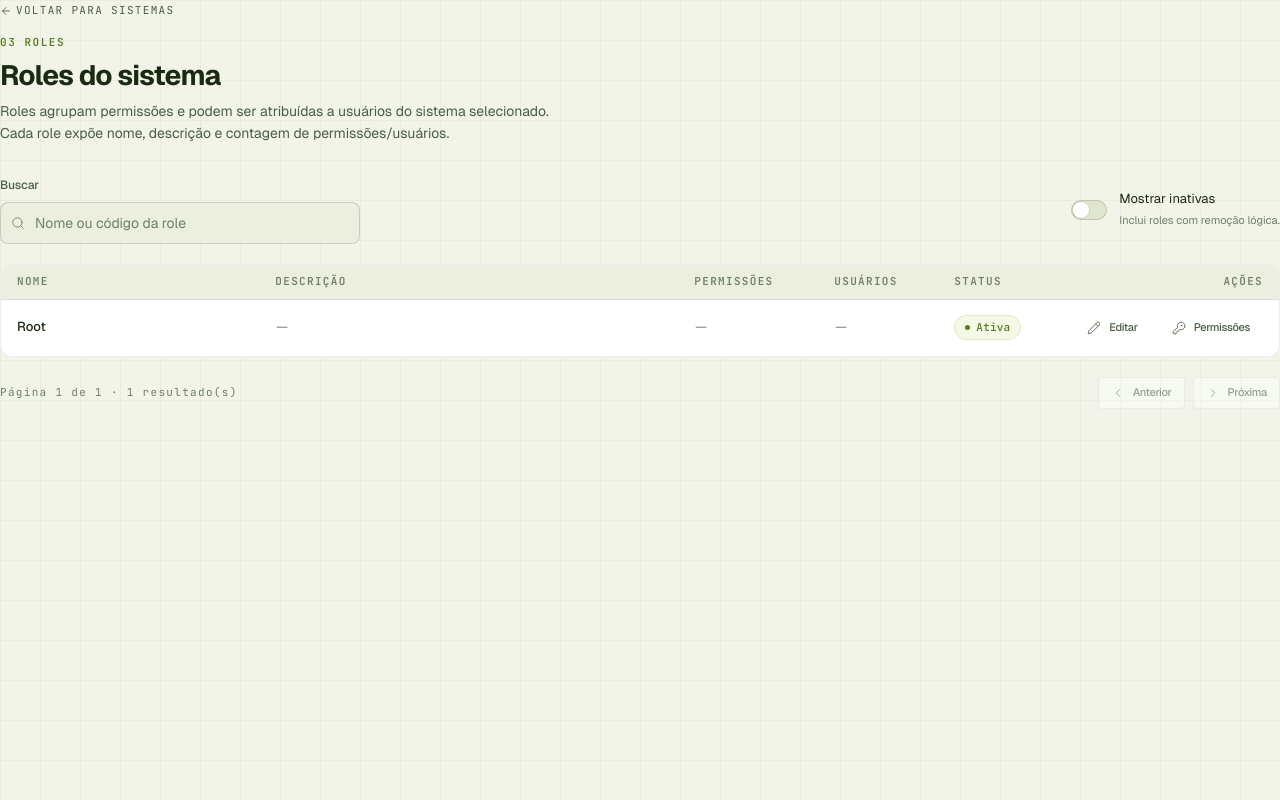
RolesPage — edição (Issue #68) › abertura e pré-preenchimento do modal › fechar via botão Cancelar não dispara PUT
Click the button "Editar" at (1112, 328), box top-left (1074, 312), bottom-right (1151, 344)
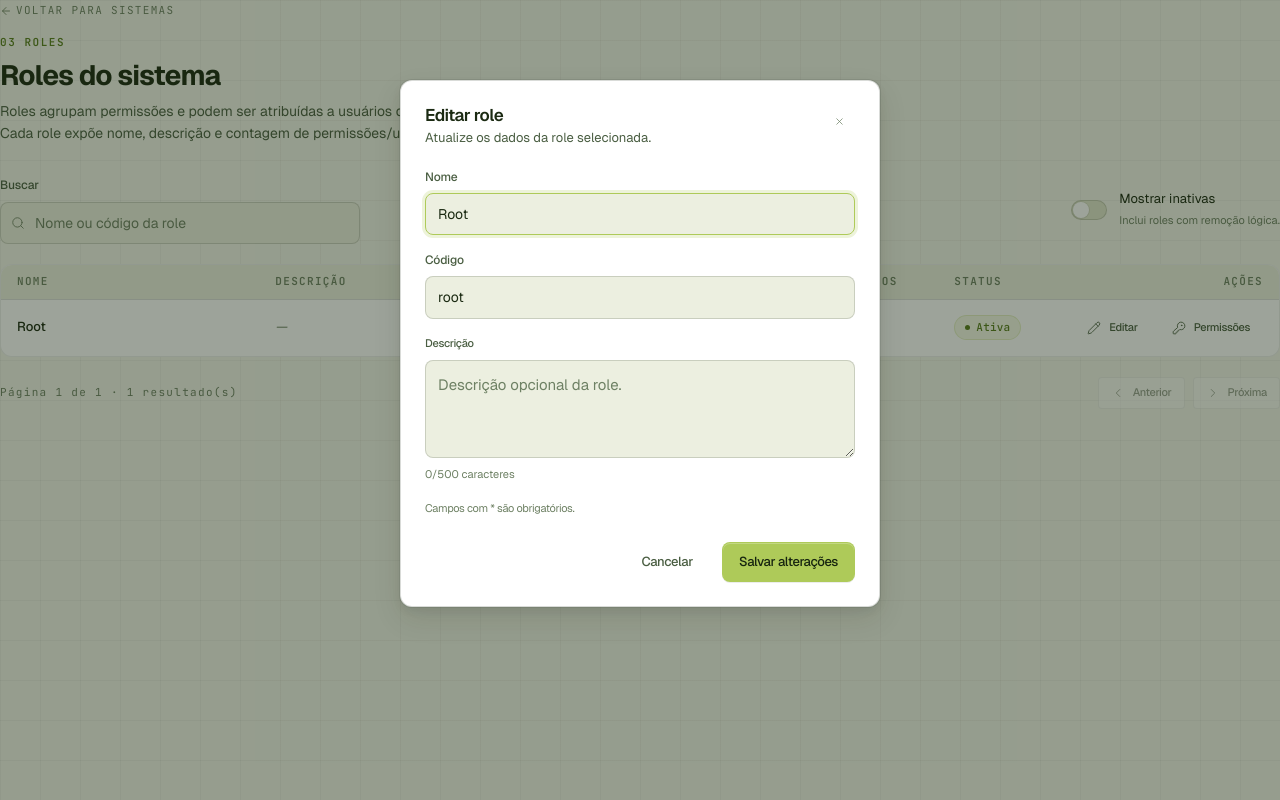
Now the form with test id "edit-role-form" is shown, box top-left (425, 168), bottom-right (855, 582)
Now the dialog is shown, box top-left (400, 80), bottom-right (880, 606)
Click the button with test id "edit-role-cancel" at (667, 562), box top-left (624, 542), bottom-right (710, 582)
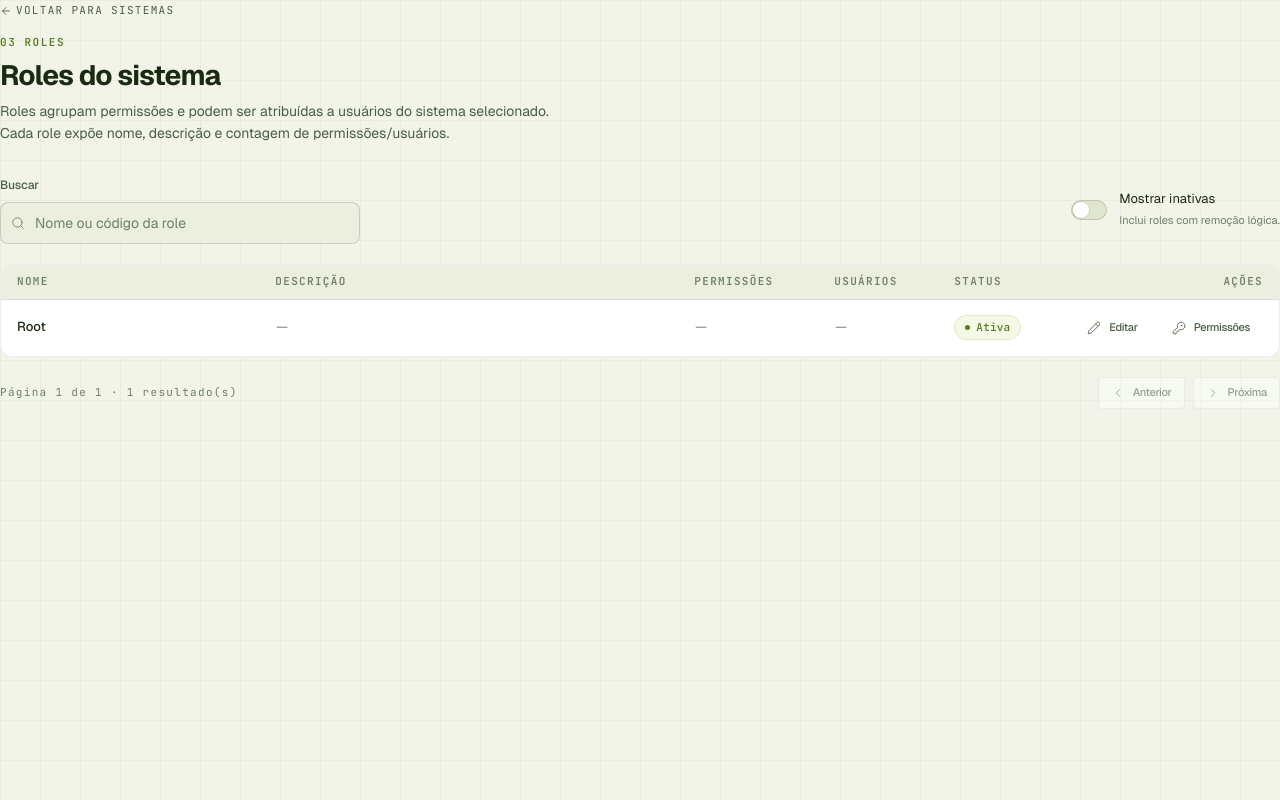
Now the dialog is gone
